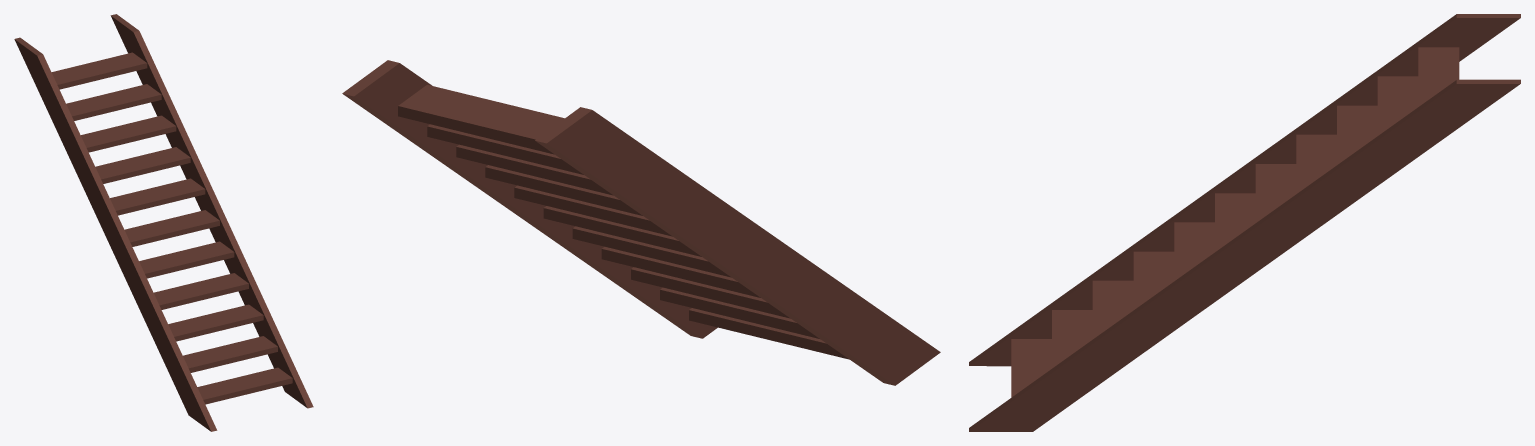
Rendered from Stairs_010.glb.
3 renders of one model, left to right at view 1: azimuth 30°, elevation 25°; view 2: azimuth 150°, elevation 25°; view 3: azimuth 270°, elevation 25°, orthographic. The views are drawn at different scales.
Parts seen in each view (by area): view 1: Stairs_010; view 2: Stairs_010; view 3: Stairs_010.
Boxes of the visible parts, box(x1,y1,x2,y2) form: Stairs_010: box(14, 14, 313, 431); Stairs_010: box(342, 60, 940, 385); Stairs_010: box(969, 14, 1520, 431).
Size of the model in its own units: 1.72 by 4 by 5.74.
1 material, 1 textured.
